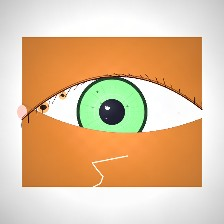foreign_body_visible: (124, 134, 148, 153)
